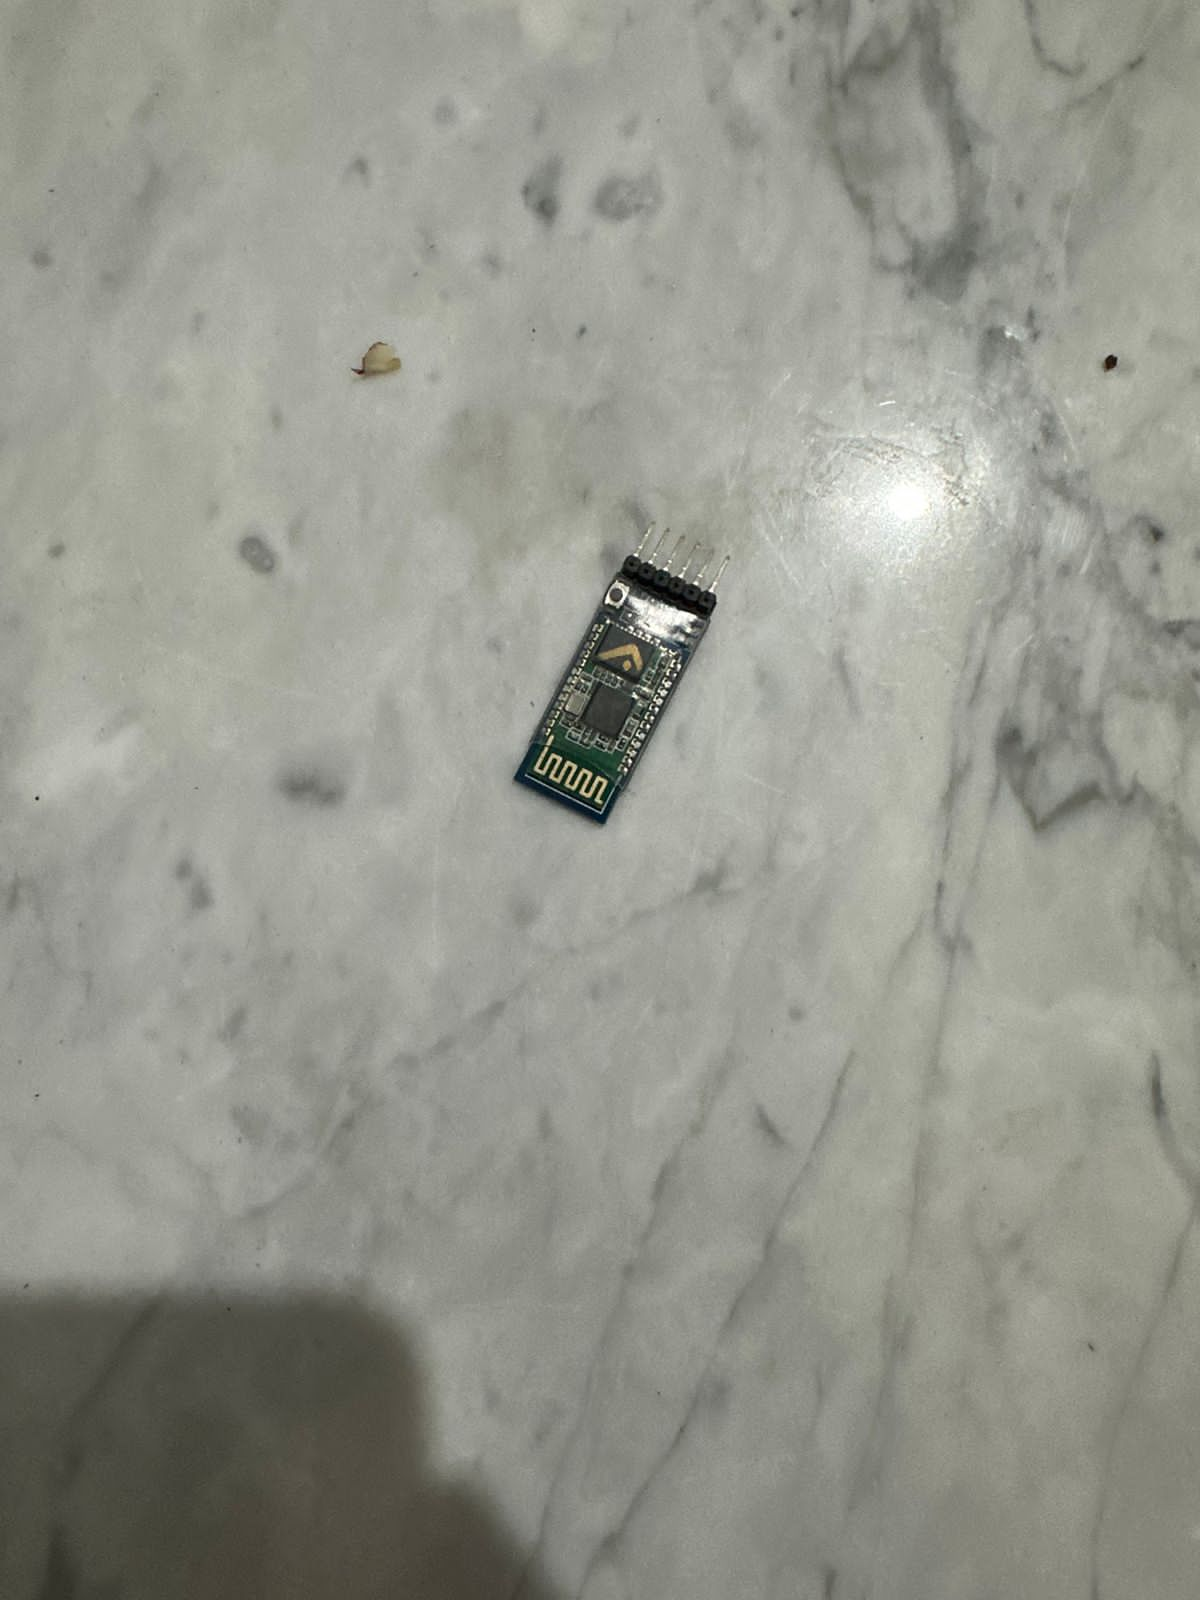module-bluetooth: (507, 519, 737, 839)
